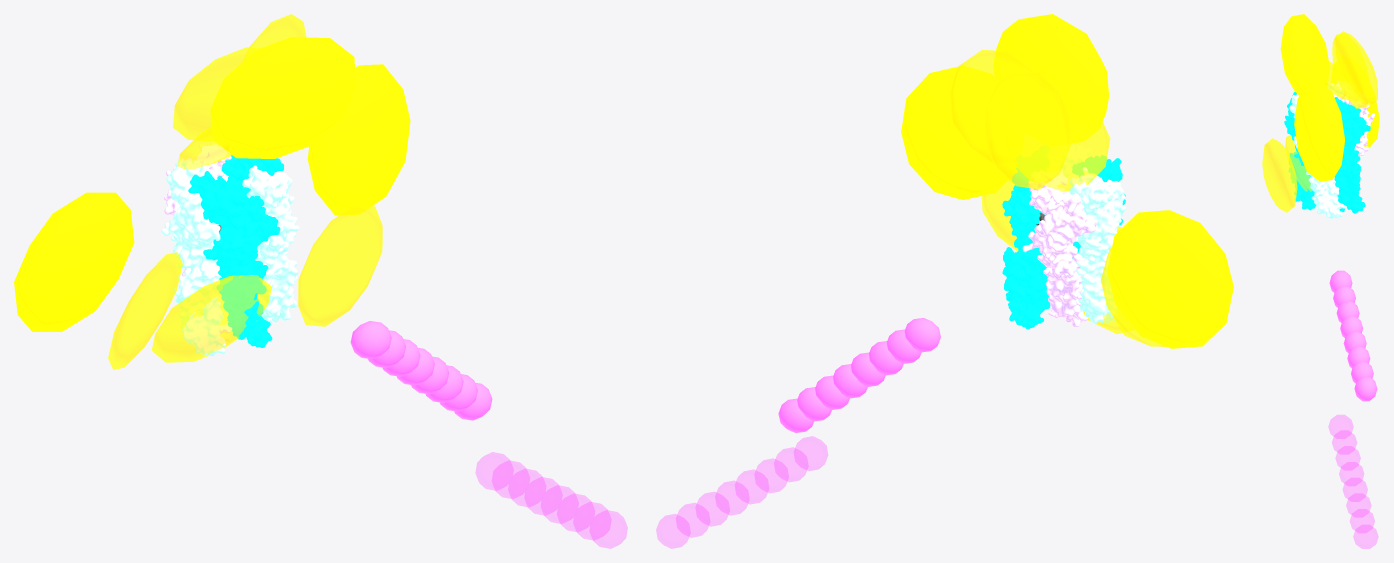
Rendered from heart-micro-progressing-3.glb.
3 views of the same model, side by side, from view 1: azimuth 30°, elevation 25°; view 2: azimuth 150°, elevation 25°; view 3: azimuth 270°, elevation 25° (orthographic). The views are drawn at different scales.
Parts seen in each view (by area): view 1: MisfoldedMonomer_2, MisfoldedMonomer_1, MisfoldedMonomer_0, Object_12, Object_6, MisfoldedSevere_2, MisfoldedSevere_5, Object_8, MisfoldedSevere_0, MisfoldedSevere_1, MisfoldedSevere_3, Object_10 (+11 smaller); view 2: MisfoldedMonomer_1, MisfoldedMonomer_0, MisfoldedSevere_4, MisfoldedMonomer_2, MisfoldedSevere_1, Object_10, Object_6, Object_4, MisfoldedSevere_3, MisfoldedSevere_2, MisfoldedSevere_0, AmyloidChain_0 (+16 smaller); view 3: MisfoldedMonomer_0, MisfoldedMonomer_2, Object_4, MisfoldedSevere_4, MisfoldedSevere_1, MisfoldedSevere_2, Object_8, Object_12, MisfoldedSevere_3, MisfoldedSevere_5, Object_10, MisfoldedMonomer_1 (+16 smaller).
Boxes of the visible parts, x1,y1,x2,y2 form: MisfoldedMonomer_2: (210, 37, 355, 158); MisfoldedMonomer_1: (14, 192, 134, 331); MisfoldedMonomer_0: (307, 64, 410, 215); Object_12: (188, 171, 280, 347); Object_6: (161, 158, 225, 356); MisfoldedSevere_2: (298, 204, 382, 326); MisfoldedSevere_5: (151, 275, 271, 362); Object_8: (242, 165, 299, 323); MisfoldedSevere_0: (108, 252, 182, 369); MisfoldedSevere_1: (173, 47, 259, 140); MisfoldedSevere_3: (177, 126, 231, 169); Object_10: (164, 142, 231, 341); MisfoldedMonomer_1: (1107, 210, 1233, 348); MisfoldedMonomer_0: (901, 66, 1016, 199); MisfoldedSevere_4: (948, 49, 1052, 165); MisfoldedMonomer_2: (994, 14, 1108, 143); MisfoldedSevere_1: (984, 70, 1071, 189); Object_10: (1022, 169, 1097, 327); Object_6: (1069, 167, 1126, 324); Object_4: (1002, 168, 1050, 329); MisfoldedSevere_3: (1012, 120, 1110, 191); MisfoldedSevere_2: (981, 171, 1018, 251); MisfoldedSevere_0: (1101, 247, 1166, 346); AmyloidChain_0: (904, 318, 940, 352); MisfoldedMonomer_0: (1294, 82, 1344, 181); MisfoldedMonomer_2: (1280, 14, 1329, 95); Object_4: (1334, 97, 1370, 213); MisfoldedSevere_4: (1332, 33, 1370, 108); MisfoldedSevere_1: (1335, 31, 1377, 105); MisfoldedSevere_2: (1262, 138, 1297, 212); Object_8: (1289, 94, 1346, 218); Object_12: (1284, 92, 1316, 210); MisfoldedSevere_3: (1325, 61, 1357, 101); MisfoldedSevere_5: (1285, 135, 1311, 191); Object_10: (1337, 94, 1374, 155); MisfoldedMonomer_1: (1331, 61, 1379, 147).
Size of the model in its own units: 6.53 by 6.42 by 1.65.
